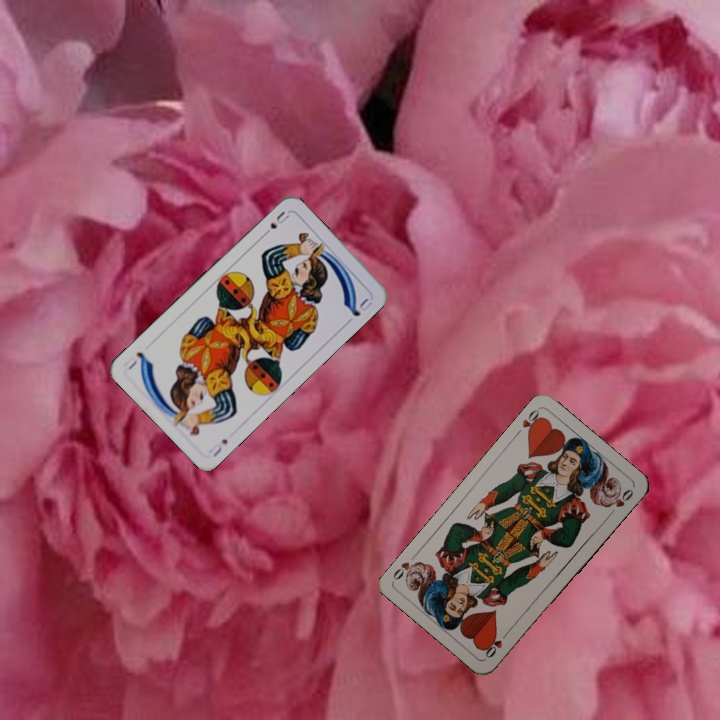HO: (511, 405, 546, 439), (481, 627, 512, 661)
SU: (258, 207, 292, 240), (205, 435, 230, 460)
